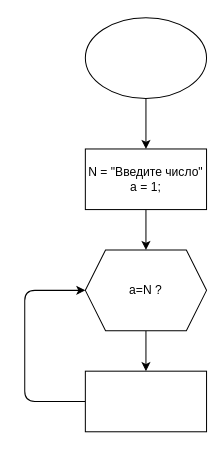
Some shapes in this 224 by 449 pixel diagram are drawn without their labels. The shapes that lost their labels are listed below. From the top down, each one's centre as x and y in pixels, then its label:
point 145,57: Start
point 145,401: a = a + 1; print {a}; a++;
